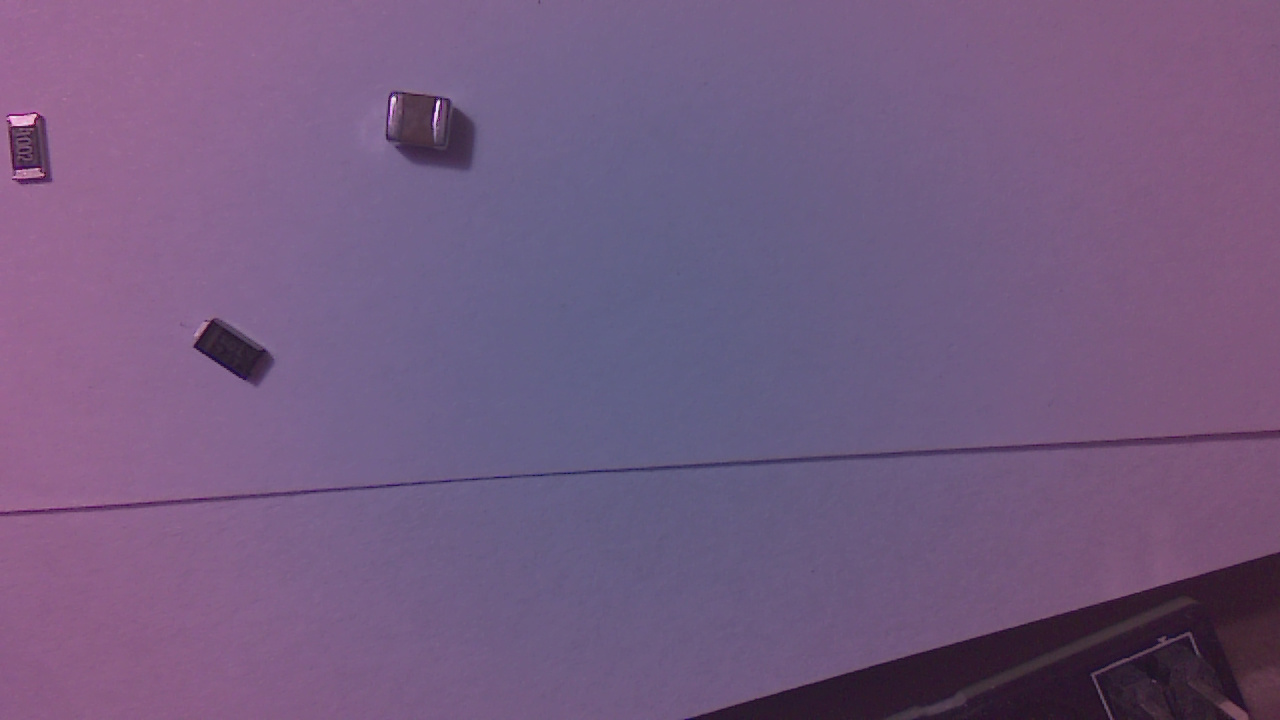Condensator: (392, 96, 460, 159)
Diode: (197, 318, 277, 388)
Resistor: (11, 117, 56, 187)
